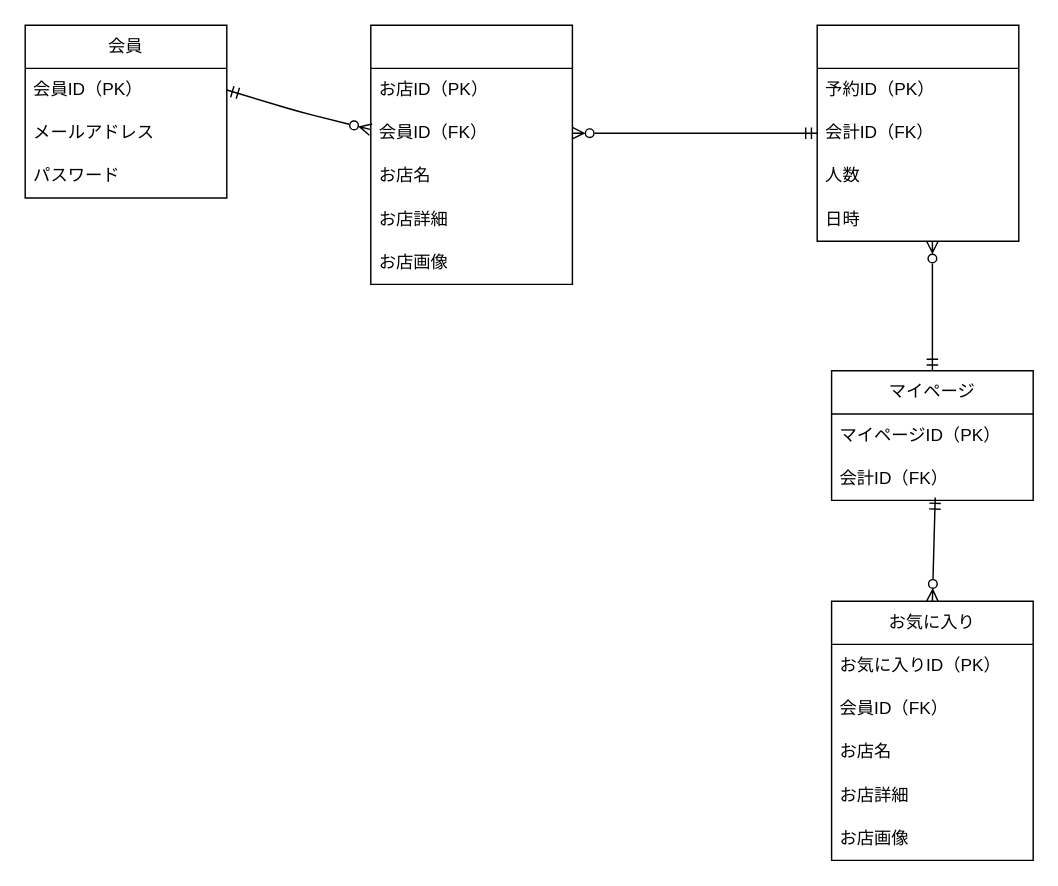
This 1058x886 diagram has some shape labels left out. The box of each missing label's shape, as (x1, y1, x2, y2) in pixels:
お店: (369, 24, 572, 284)
予約: (816, 24, 1019, 241)
